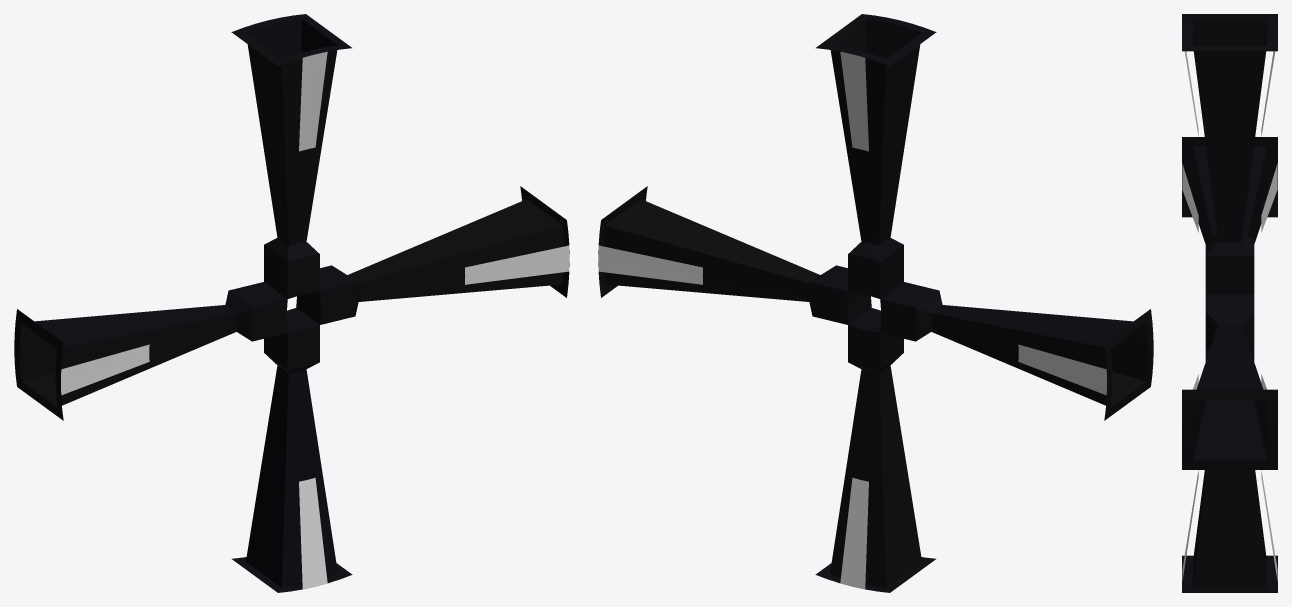
Rendered from LD50-Obstacle-Tower-Four-01.glb.
3 views of the same model, side by side, from view 1: azimuth 30°, elevation 25°; view 2: azimuth 150°, elevation 25°; view 3: azimuth 270°, elevation 25° (orthographic). The views are drawn at different scales.
Parts seen in each view (by area): view 1: Obstacle-Tower-four-01; view 2: Obstacle-Tower-four-01; view 3: Obstacle-Tower-four-01.
Part boxes in pixels (<box>): Obstacle-Tower-four-01: <box>14,14,569,592</box>; Obstacle-Tower-four-01: <box>598,14,1153,592</box>; Obstacle-Tower-four-01: <box>1182,14,1277,592</box>.
Size of the model in its own units: 30 by 30 by 4.76.
2 materials, 1 textured.
